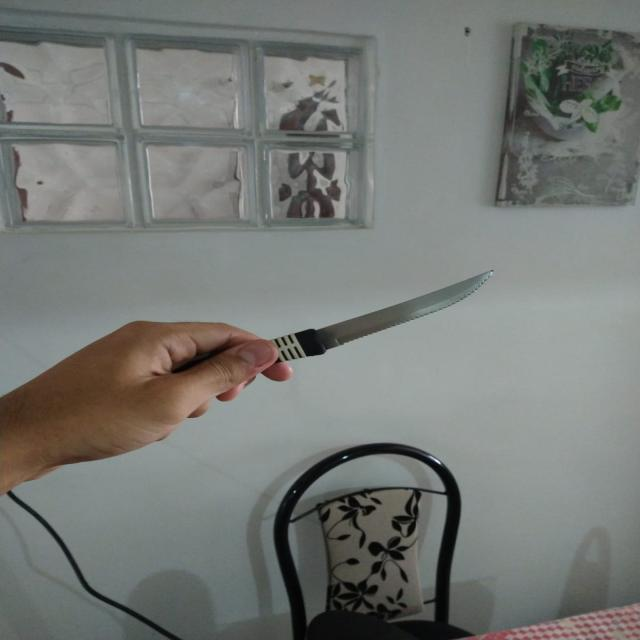knife: (263, 265, 506, 356)
